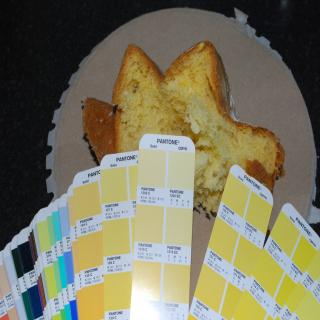Bread: (82, 39, 286, 216)
